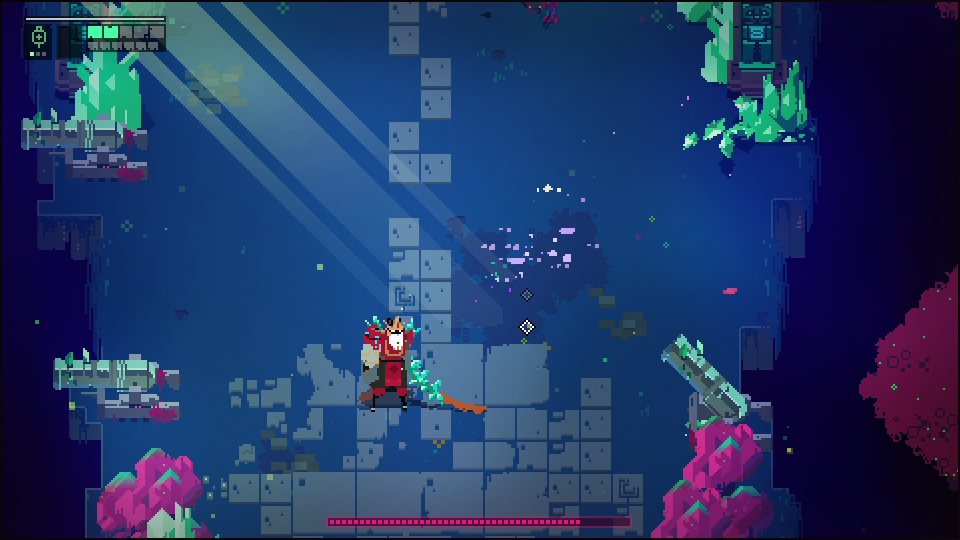hanged_man: (358, 311, 446, 414)
